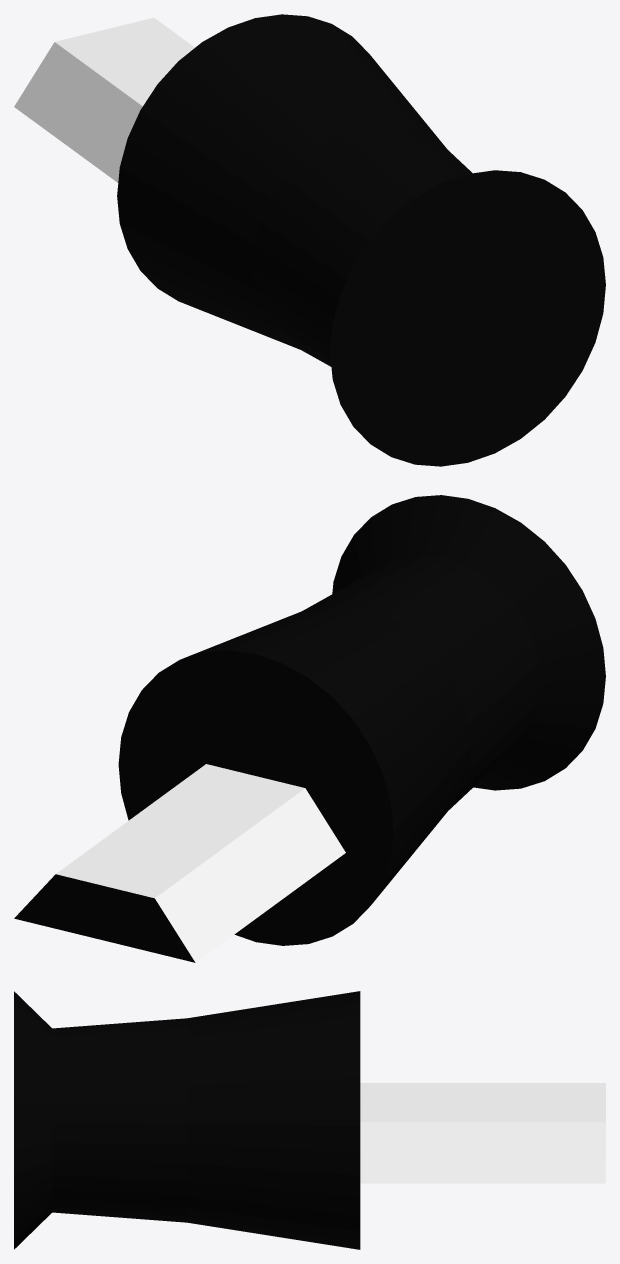
Rendered from GBA转换头.fbx.
3 renders of one model, top to bottom at view 1: azimuth 30°, elevation 25°; view 2: azimuth 150°, elevation 25°; view 3: azimuth 270°, elevation 25°, orthographic. The views are drawn at different scales.
Visible parts, largest first — view 1: 柱体; view 2: 柱体; view 3: 柱体.
Boxes of the visible parts, x1,y1,x2,y2 form: 柱体: (14,14,605,466); 柱体: (14,495,605,962); 柱体: (14,991,605,1249).
Size of the model in its own units: 173 by 173 by 396.
1 material, 1 textured.
